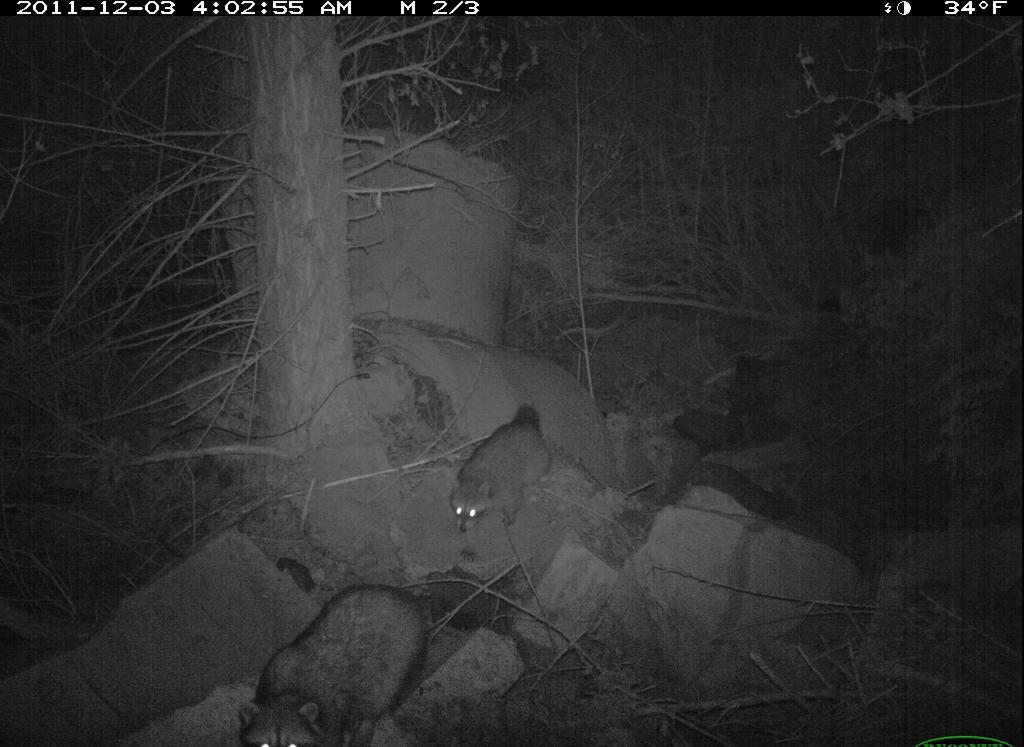raccoon: (451, 417, 566, 532)
